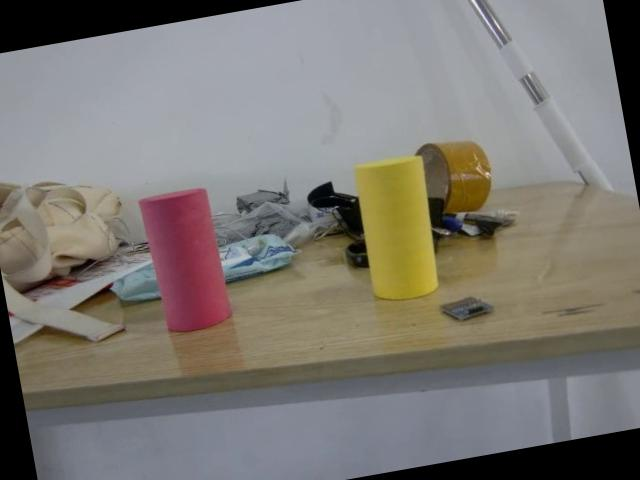red_cylinder: (134, 177, 245, 340)
yellow_cylinder: (347, 145, 444, 308)
